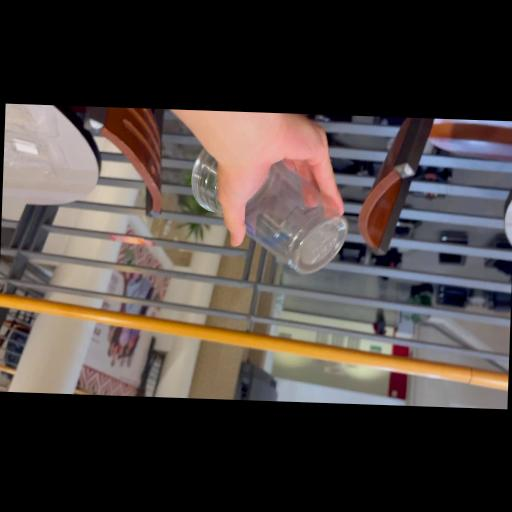lp_plastic_cup: (190, 148, 344, 274)
